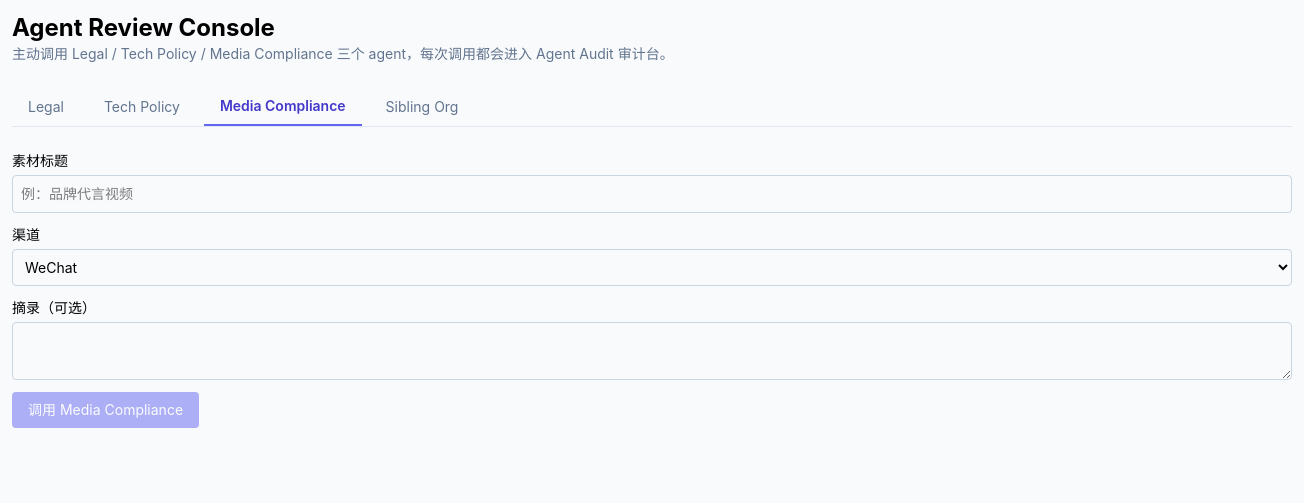
Test: V32 Agent Review Console › switches to Media Compliance tab and posts to /api/compliance/media/check
In the field with test id "media-title": (652, 194) [12,175,1292,213], type "品牌代言视频"
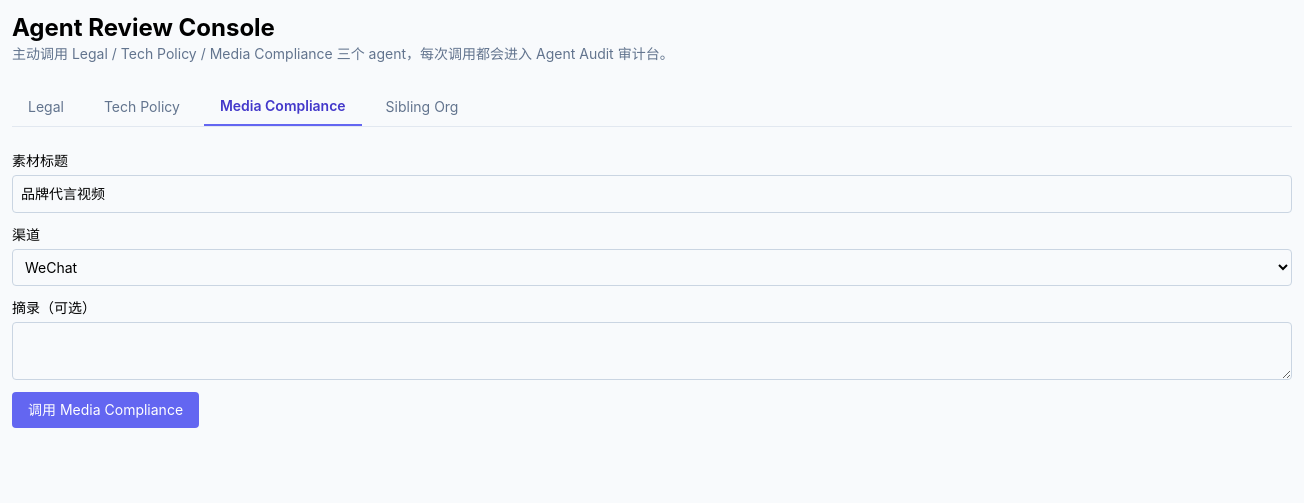
Select "Douyin" in the dropdown with test id "media-channel": (652, 268) [12,249,1292,286]
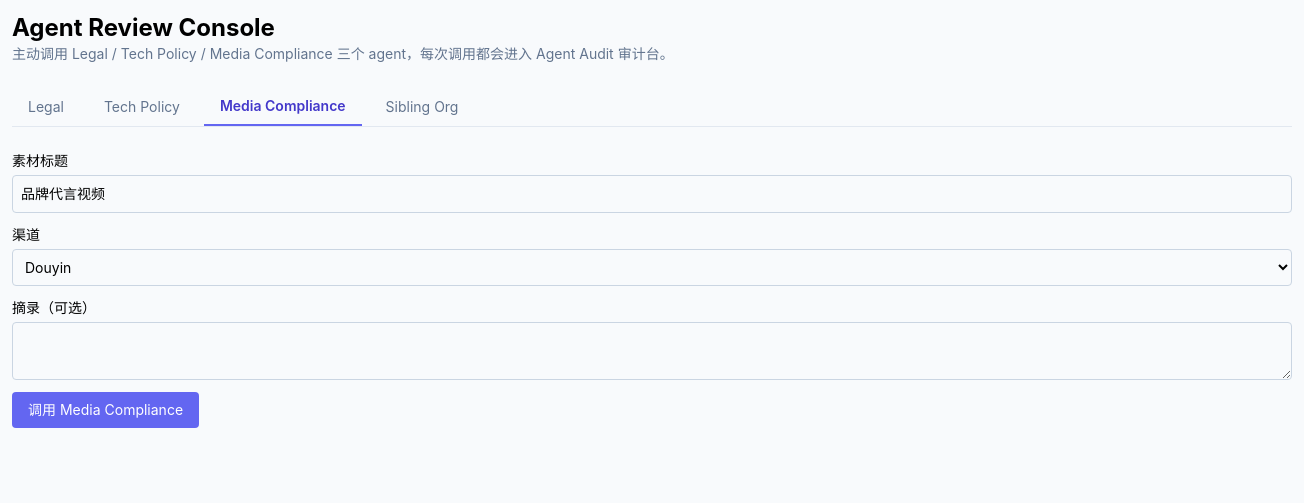
In the text box with test id "media-excerpt": (652, 351) [12,322,1292,380], type "代言人未获授权即定剪"
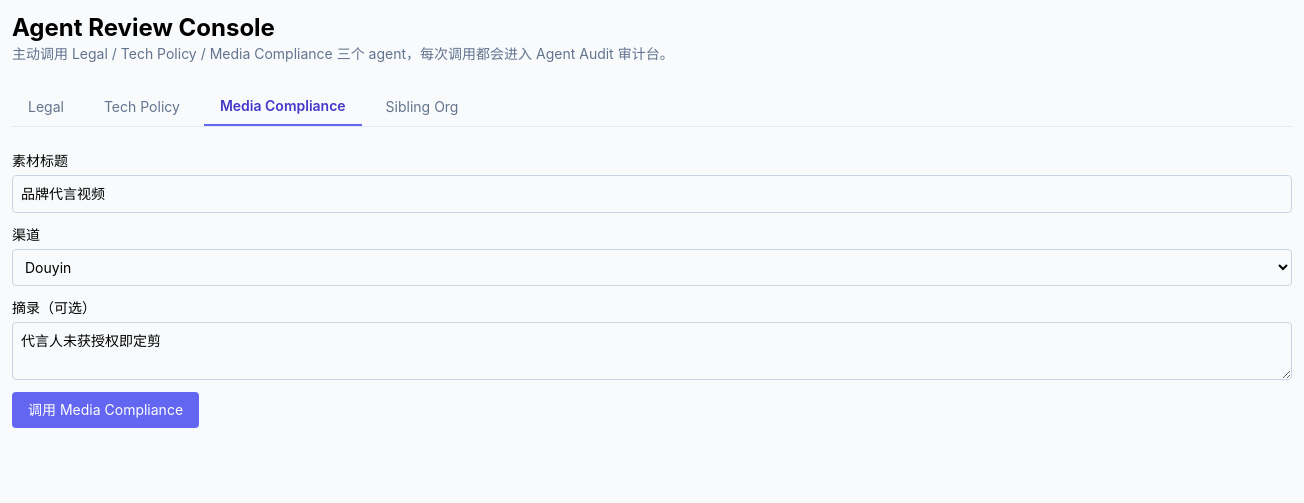
Click the button with test id "media-submit": (106, 410) [12,392,199,428]
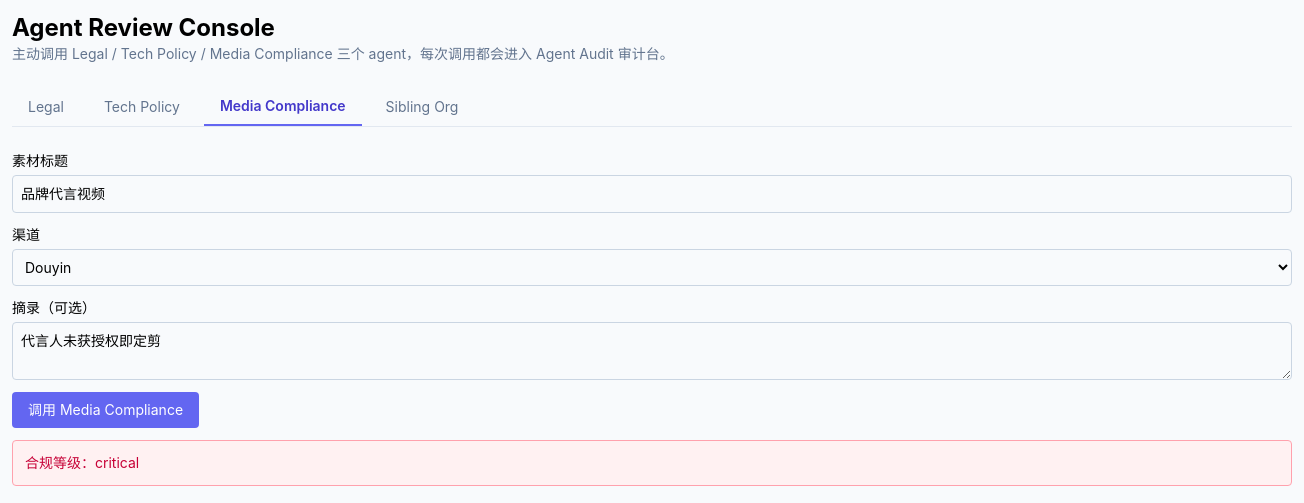
expect the text "合规等级：critical" is shown: met, box [12,440,1292,486]
expect the text with test id "media-result" shows "critical": met, box [95,454,139,471]
